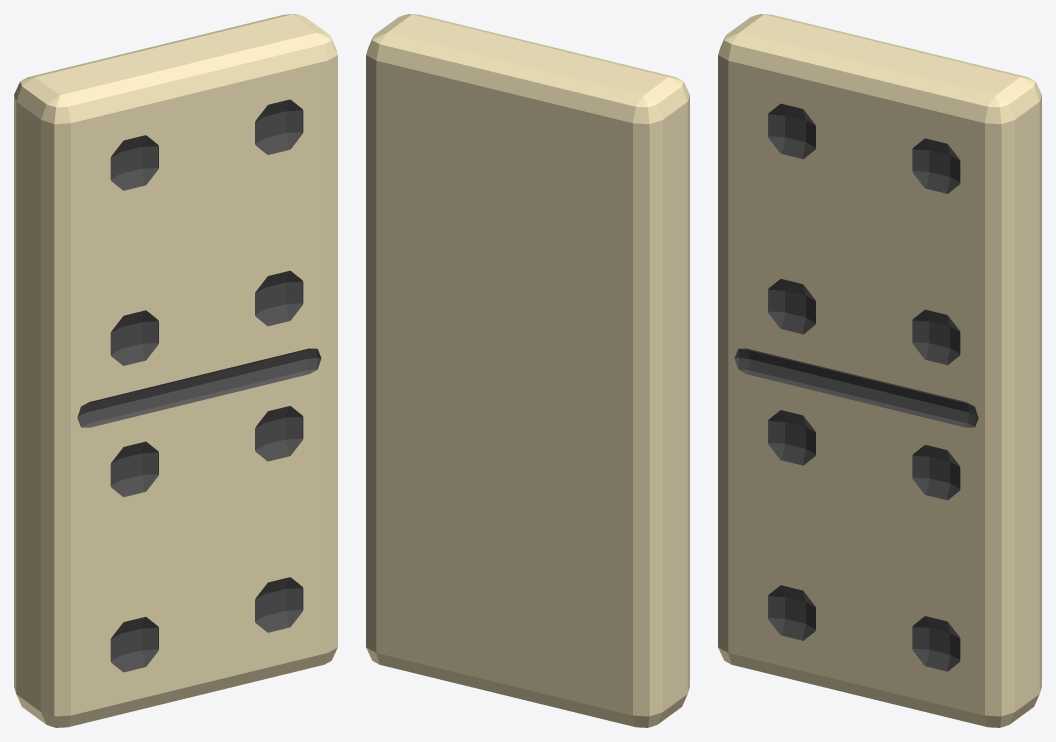
The model's file is dominoes 4x4.fbx.
3 views of the same model, side by side, from view 1: azimuth 30°, elevation 25°; view 2: azimuth 150°, elevation 25°; view 3: azimuth 330°, elevation 25° (orthographic).
Parts seen in each view (by area): view 1: Boole_22; view 2: Boole_22; view 3: Boole_22.
Boxes of the visible parts, x1=… form: Boole_22: x1=14, y1=14, x2=337, y2=727; Boole_22: x1=366, y1=14, x2=689, y2=727; Boole_22: x1=718, y1=14, x2=1041, y2=727.
Size of the model in its own units: 200 by 410 by 55.02.
